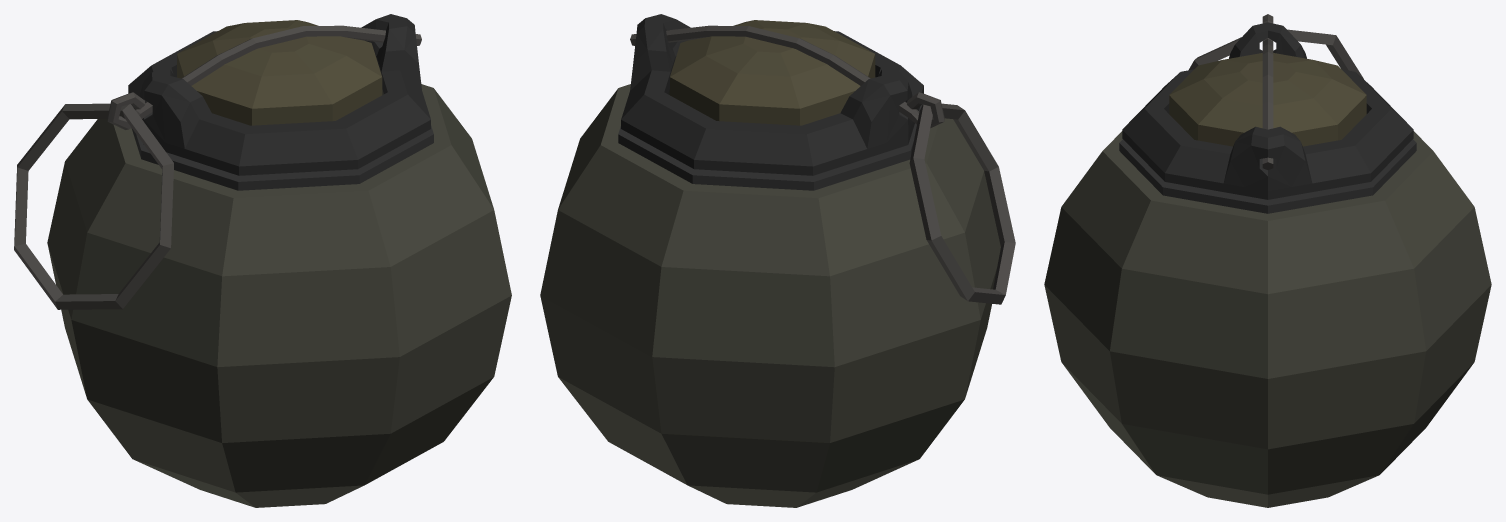
Rendered from impact_nade.fbx.
3 views of the same model, side by side, from view 1: azimuth 30°, elevation 25°; view 2: azimuth 150°, elevation 25°; view 3: azimuth 270°, elevation 25° (orthographic). The views are drawn at different scales.
Visible parts, largest first — view 1: impactnade3, impactnade4, impactnade2, impactnade5, impactnade1; view 2: impactnade3, impactnade4, impactnade2, impactnade5, impactnade1; view 3: impactnade3, impactnade4, impactnade2, impactnade1, impactnade5.
Boxes of the visible parts, x1,y1,x2,y2 form: impactnade3: (47, 84, 511, 507); impactnade4: (128, 14, 430, 175); impactnade2: (177, 20, 382, 125); impactnade5: (14, 25, 421, 309); impactnade1: (131, 125, 433, 190); impactnade3: (540, 84, 1000, 507); impactnade4: (621, 14, 923, 175); impactnade2: (670, 20, 875, 125); impactnade5: (630, 25, 1015, 304); impactnade1: (618, 104, 922, 190); impactnade3: (1044, 131, 1491, 507); impactnade4: (1122, 22, 1413, 199); impactnade2: (1169, 53, 1366, 146); impactnade1: (1119, 139, 1416, 213); impactnade5: (1189, 14, 1363, 169).
Size of the model in its own units: 7.04 by 6.93 by 6.63.
